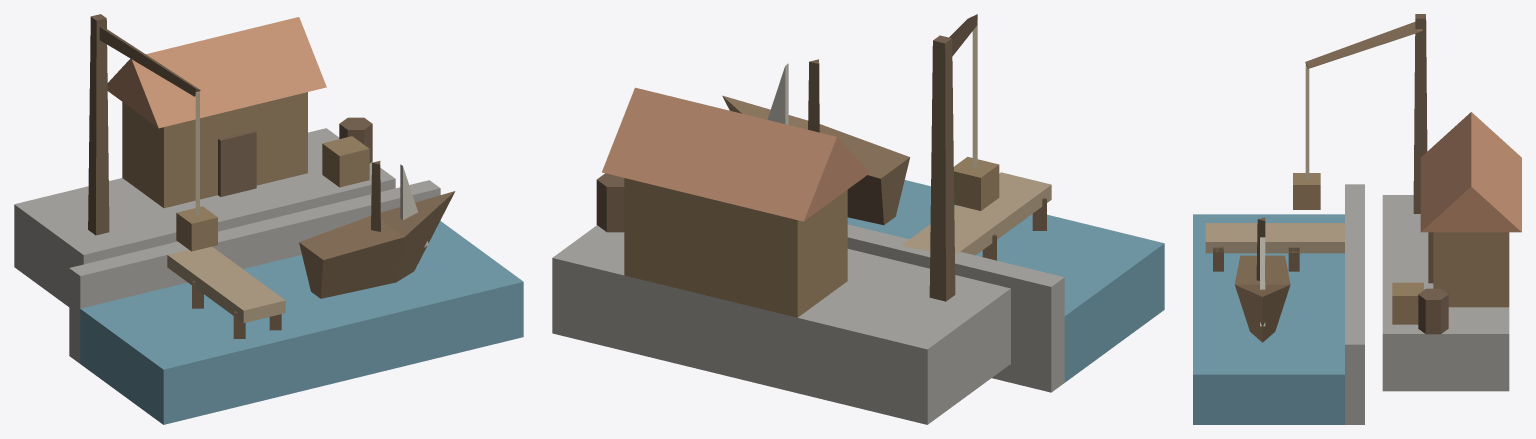
Rendered from harbor.glb.
3 views of the same model, side by side, from view 1: azimuth 30°, elevation 25°; view 2: azimuth 150°, elevation 25°; view 3: azimuth 270°, elevation 25° (orthographic). The views are drawn at different scales.
Parts seen in each view (by area): view 1: LOD0; view 2: LOD0; view 3: LOD0.
Boxes of the visible parts, x1=… form: LOD0: x1=14, y1=14, x2=523, y2=424; LOD0: x1=552, y1=14, x2=1164, y2=424; LOD0: x1=1193, y1=14, x2=1521, y2=424.
Size of what is drawn, in the model's own units: 0.3 by 0.24 by 0.26.
